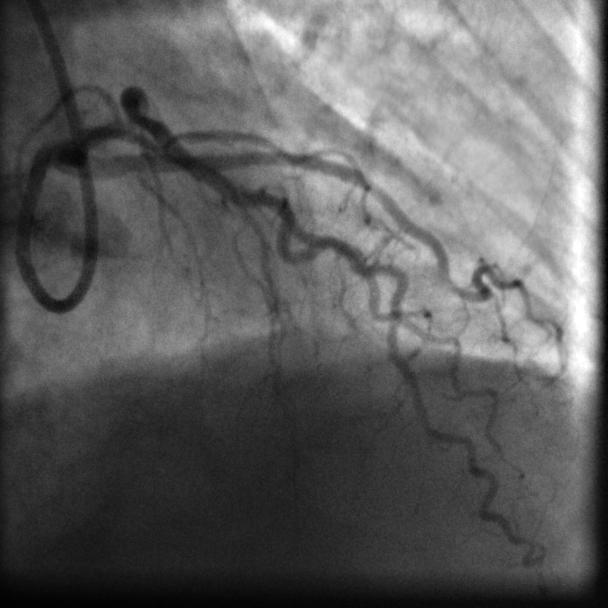Stenosis: (120, 95, 155, 133)
